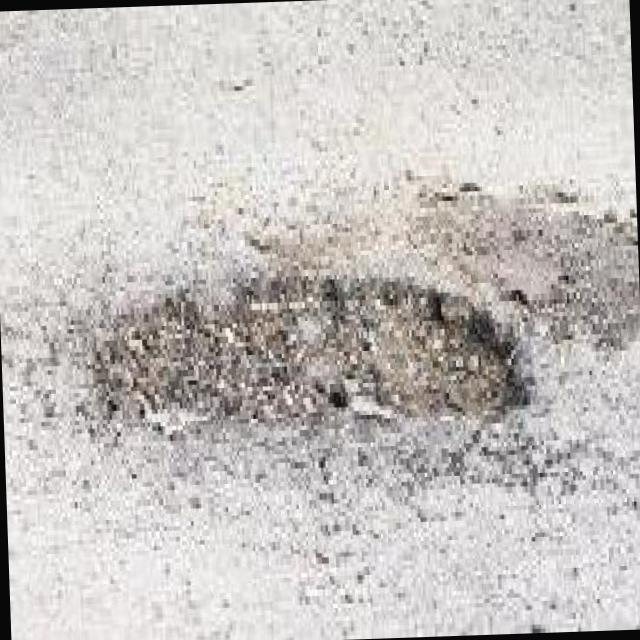Lubang: (93, 273, 526, 421)
